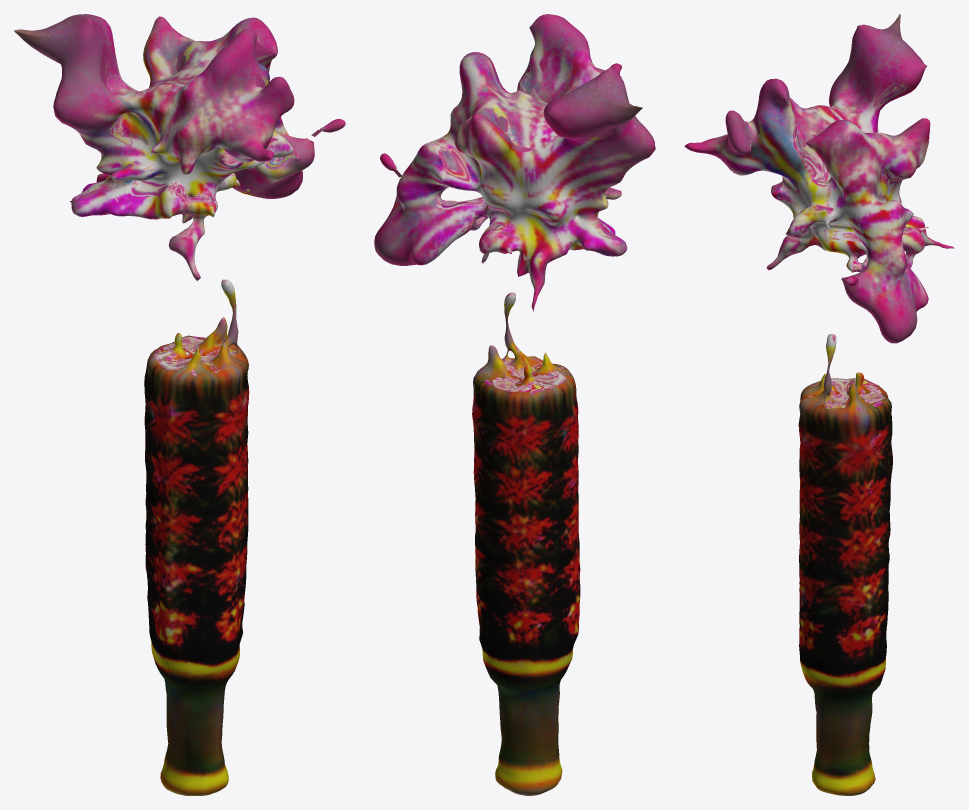
The model's file is c5a08a69f52d_Vietnamese_firework.obj.
3 renders of one model, left to right at view 1: azimuth 30°, elevation 25°; view 2: azimuth 150°, elevation 25°; view 3: azimuth 270°, elevation 25°, orthographic. The views are drawn at different scales.
Visible parts, largest first — view 1: mesh; view 2: mesh; view 3: mesh.
Boxes of the visible parts, <box> form: mesh: <box>14,14,345,795</box>; mesh: <box>374,14,655,795</box>; mesh: <box>684,14,954,795</box>.
Bounding box in the file's own units: 0.4023 × 0.9998 × 0.3389.
Materials: 1 (1 with a texture image).
